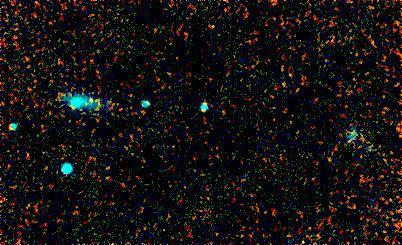star: (79, 86, 109, 116)
